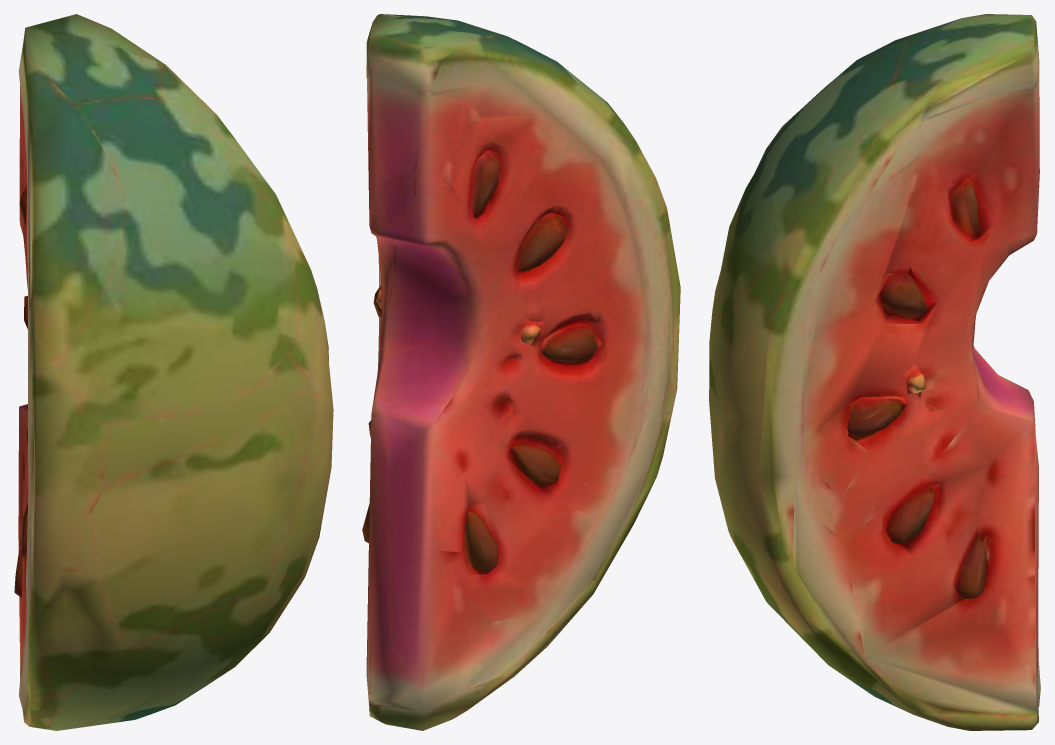
3 renders of one model, left to right at view 1: azimuth 30°, elevation 25°; view 2: azimuth 150°, elevation 25°; view 3: azimuth 270°, elevation 25°, orthographic.
Parts seen in each view (by area): view 1: material; view 2: material; view 3: material.
Boxes of the visible parts, x1=… form: material: x1=14, y1=14, x2=333, y2=730; material: x1=362, y1=14, x2=680, y2=730; material: x1=709, y1=14, x2=1040, y2=730.
Bounding box in the file's own units: 0.4488 × 1 × 0.4342.
Materials: 1 (1 with a texture image).
